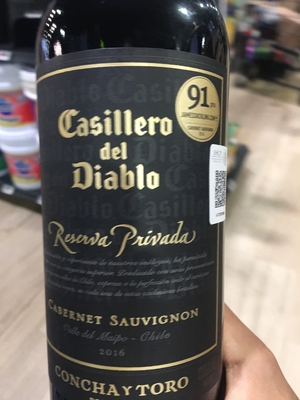casillero del diablo reserva privada cabernet sauvignon: (31, 4, 243, 400)
